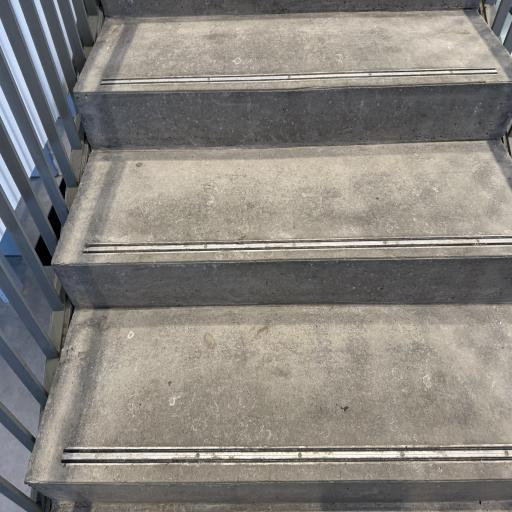Stairs: (26, 0, 512, 510), (26, 304, 512, 504), (52, 141, 512, 307), (74, 3, 512, 149), (101, 0, 479, 17)
